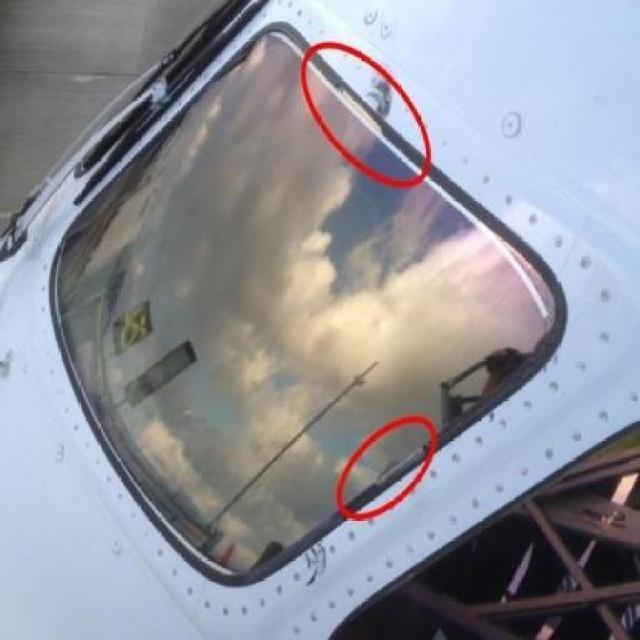crack: (305, 542, 328, 590)
